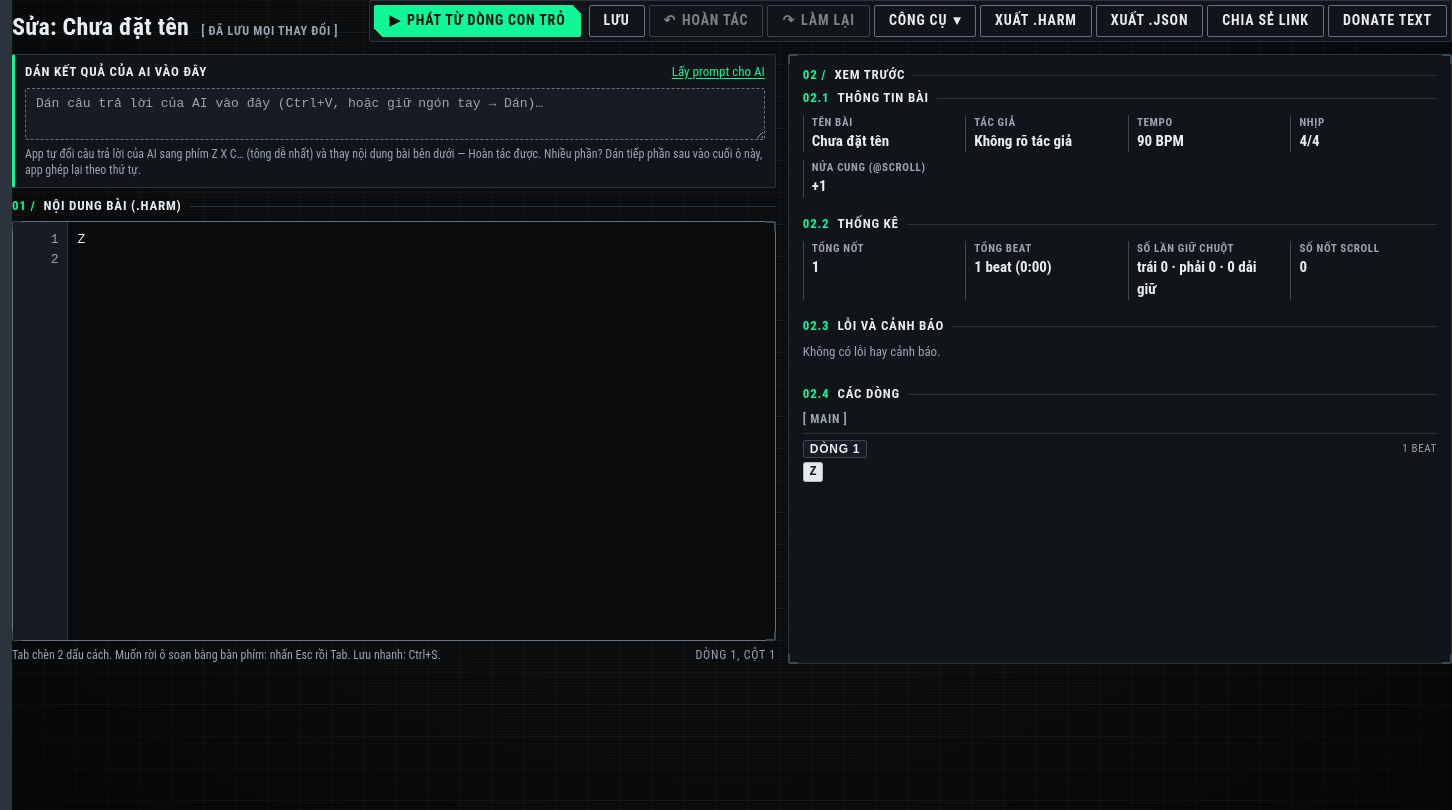
Test case: EditorView — ô dán kết quả AI › gõ tay (không phải dán): chỉ xem trước, "Áp dụng" mới thay
Replace the text in the text box labelled "Dán kết quả của AI vào đây" with "do1 re1 mi1" at point(395, 114), box [25, 88, 765, 140]
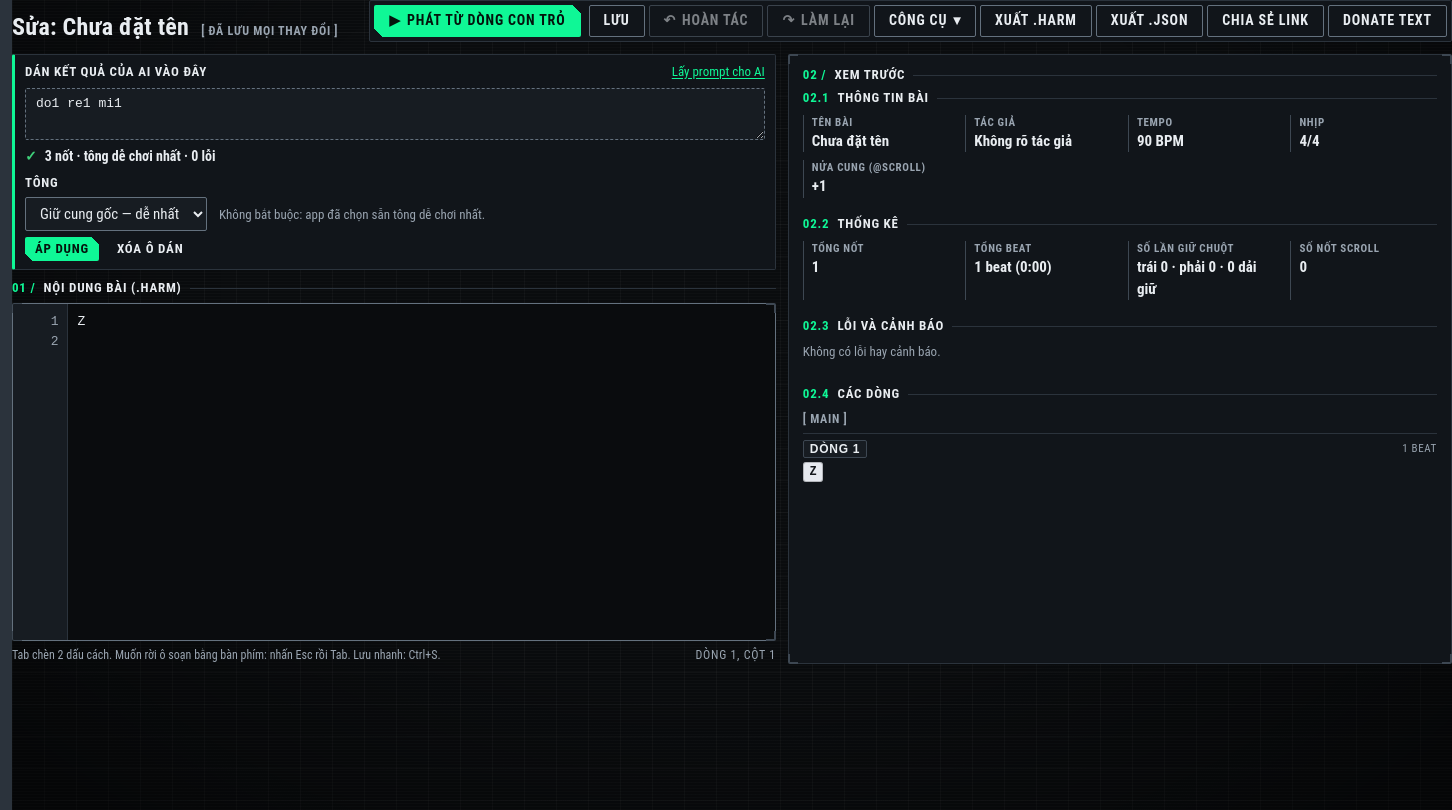
Now the text "3 nốt · tông dễ chơi nhất · 0 lỗi" is shown, box [45, 146, 216, 166]
Click the button "Áp dụng".
click(62, 249)  # box [25, 237, 99, 261]
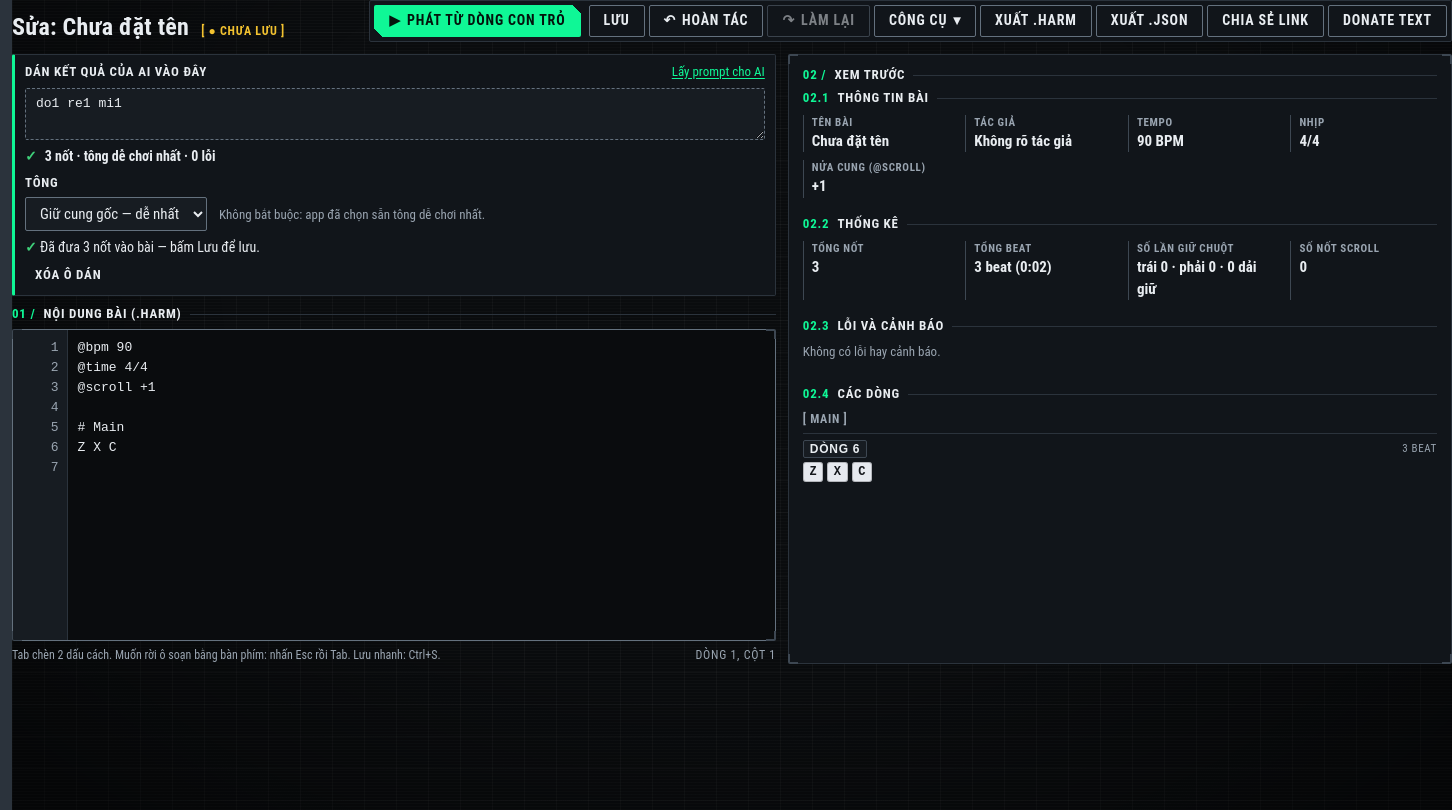
Now the button "Áp dụng" is gone
Now the text "Đã đưa 3 nốt vào bài — bấm Lưu để lưu." is shown, box [40, 239, 260, 255]
